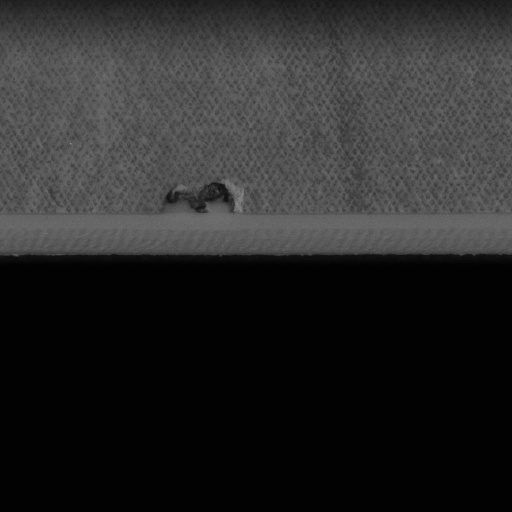bengque: (164, 179, 236, 214)
